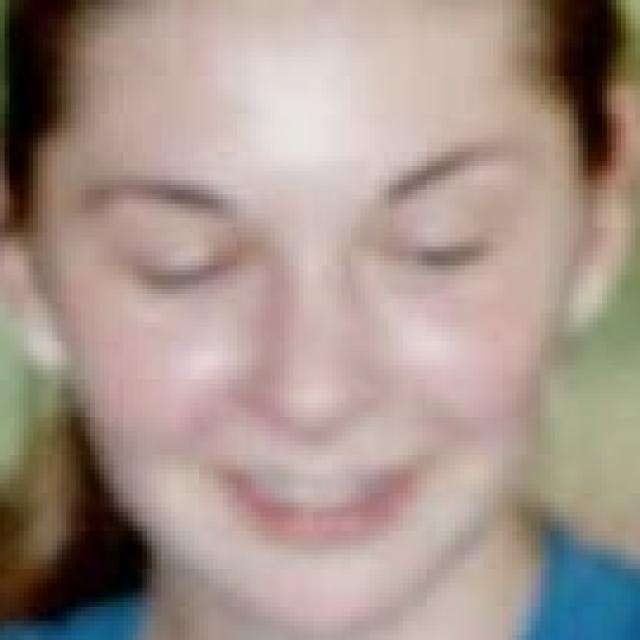Eyeclosed: (388, 226, 500, 283), (133, 248, 225, 302)
